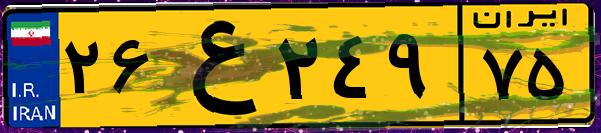2: (270, 28, 330, 110), (57, 26, 110, 100)
4: (330, 28, 385, 110)
5: (525, 38, 570, 115)
6: (110, 28, 158, 98)
7: (475, 38, 525, 113)
9: (385, 28, 445, 110)
ع: (158, 12, 270, 120)
